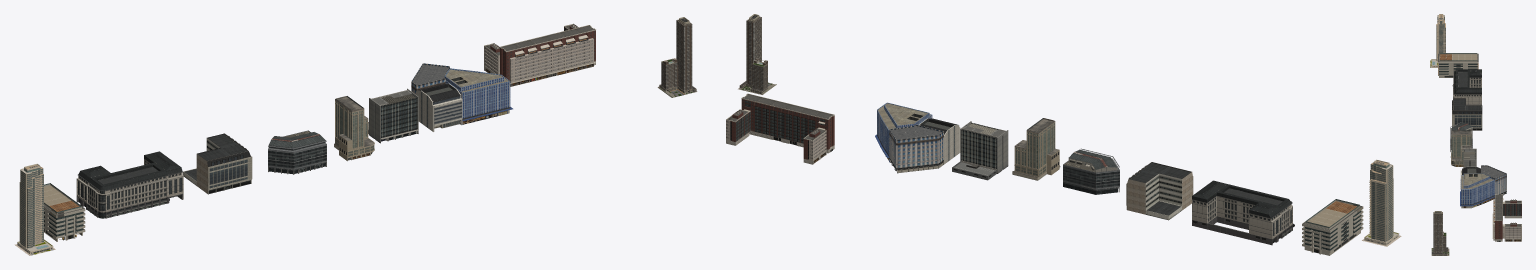
The model's file is building.FBX.
3 renders of one model, left to right at view 1: azimuth 30°, elevation 25°; view 2: azimuth 150°, elevation 25°; view 3: azimuth 270°, elevation 25°, orthographic. The views are drawn at different scales.
Visible parts, largest first — view 1: 3, 8, 2, 7, 10, 4, 6, 5, 1, 9; view 2: 8, 2, 3, 7, 9, 4, 5, 6, 10, 1; view 3: 3, 2, 8, 9, 7, 5, 1, 10, 4, 6.
Boxes of the visible parts, bbox=[...] form: 3: bbox=[411, 63, 512, 131]; 8: bbox=[76, 151, 183, 218]; 2: bbox=[484, 23, 595, 86]; 7: bbox=[183, 133, 252, 194]; 10: bbox=[14, 163, 55, 255]; 4: bbox=[368, 88, 418, 143]; 6: bbox=[268, 130, 326, 174]; 5: bbox=[334, 96, 374, 161]; 1: bbox=[657, 17, 697, 97]; 9: bbox=[44, 183, 85, 241]; 8: bbox=[1192, 180, 1294, 245]; 2: bbox=[726, 93, 834, 164]; 3: bbox=[875, 102, 960, 173]; 7: bbox=[1126, 162, 1193, 220]; 9: bbox=[1302, 199, 1363, 255]; 4: bbox=[952, 121, 1008, 180]; 5: bbox=[1012, 118, 1060, 180]; 6: bbox=[1063, 148, 1119, 194]; 10: bbox=[1362, 159, 1401, 246]; 1: bbox=[738, 14, 776, 94]; 3: bbox=[1460, 165, 1506, 208]; 2: bbox=[1492, 194, 1521, 241]; 8: bbox=[1452, 69, 1481, 105]; 9: bbox=[1438, 53, 1478, 77]; 7: bbox=[1452, 98, 1482, 130]; 5: bbox=[1450, 130, 1471, 166]; 1: bbox=[1431, 211, 1449, 255]; 10: bbox=[1430, 14, 1445, 67]; 4: bbox=[1463, 148, 1476, 167]; 6: bbox=[1450, 122, 1472, 151].
Size of the model in its own units: 141346 by 16176 by 27992.
